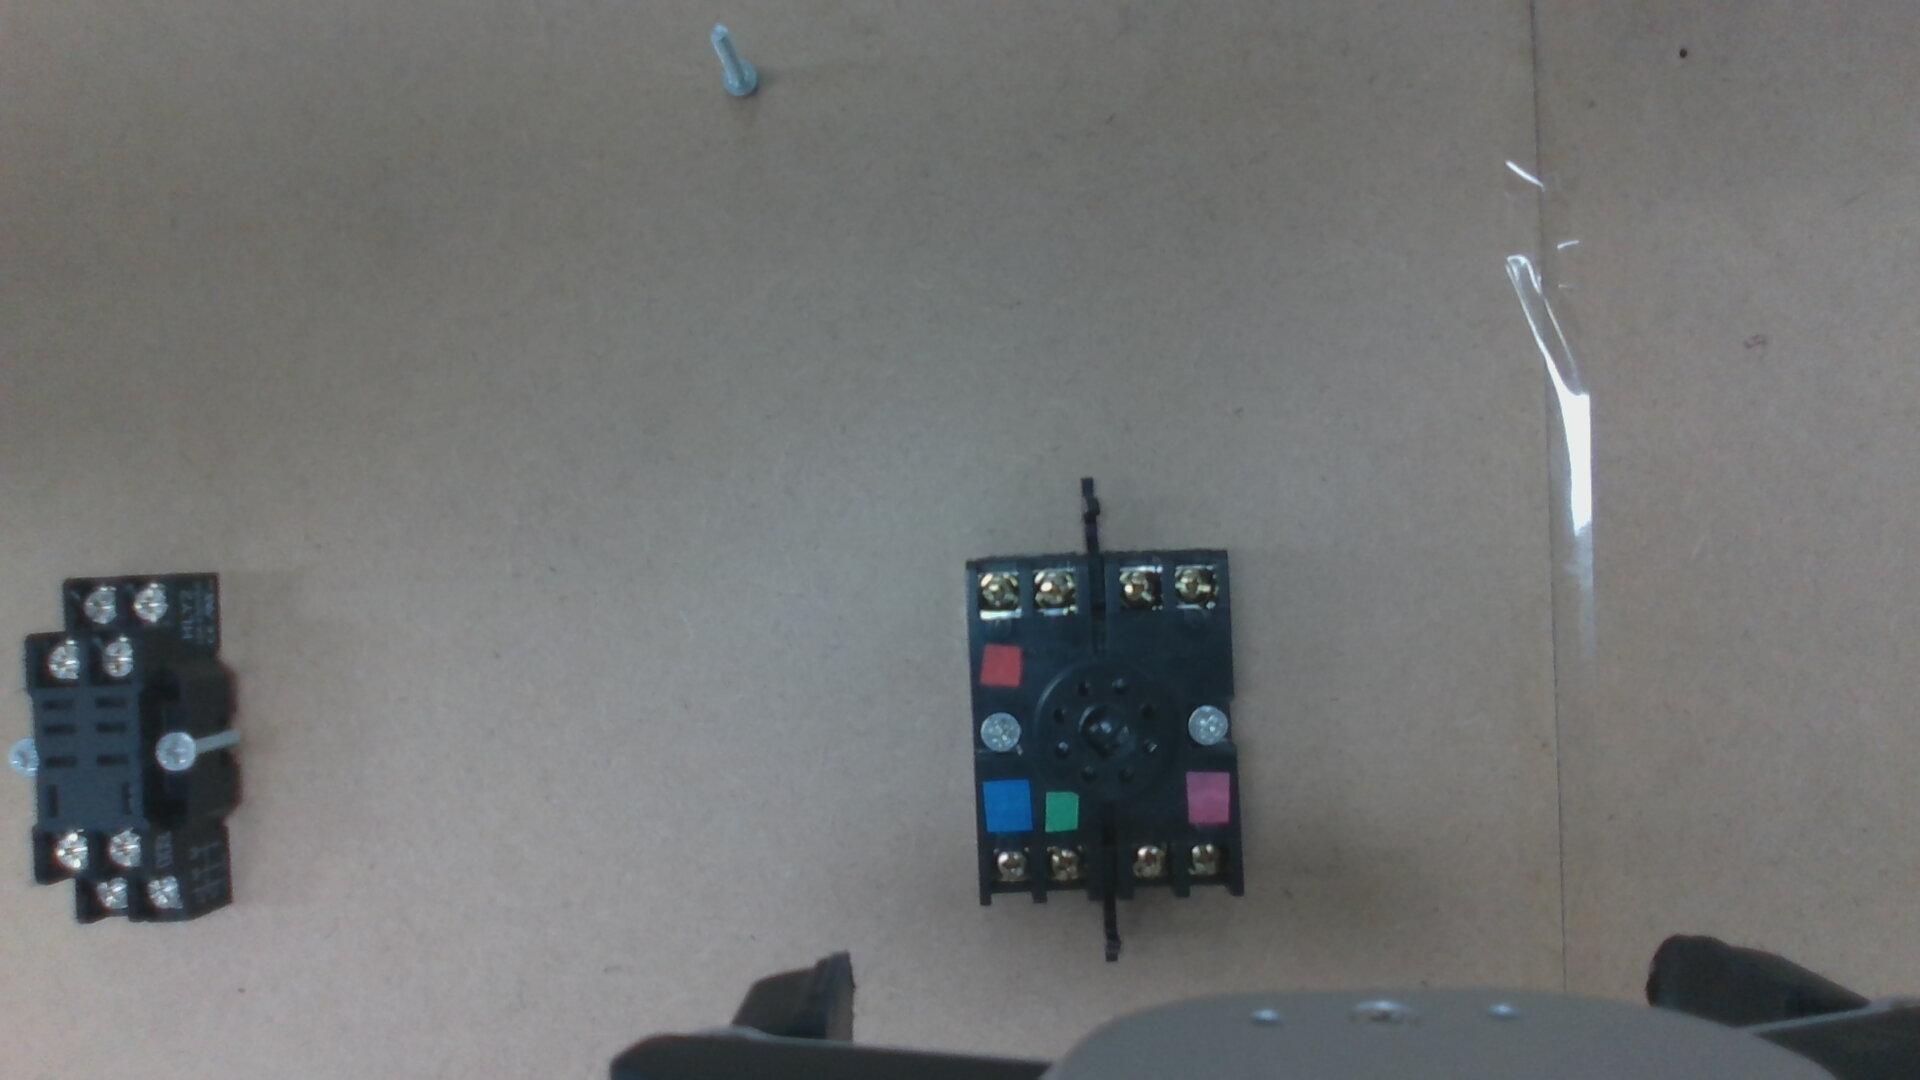timer 2: (1189, 844, 1225, 878)
timer 6: (978, 575, 1018, 612)
timer 7: (994, 848, 1029, 880)
timer 8: (1046, 848, 1085, 884)
